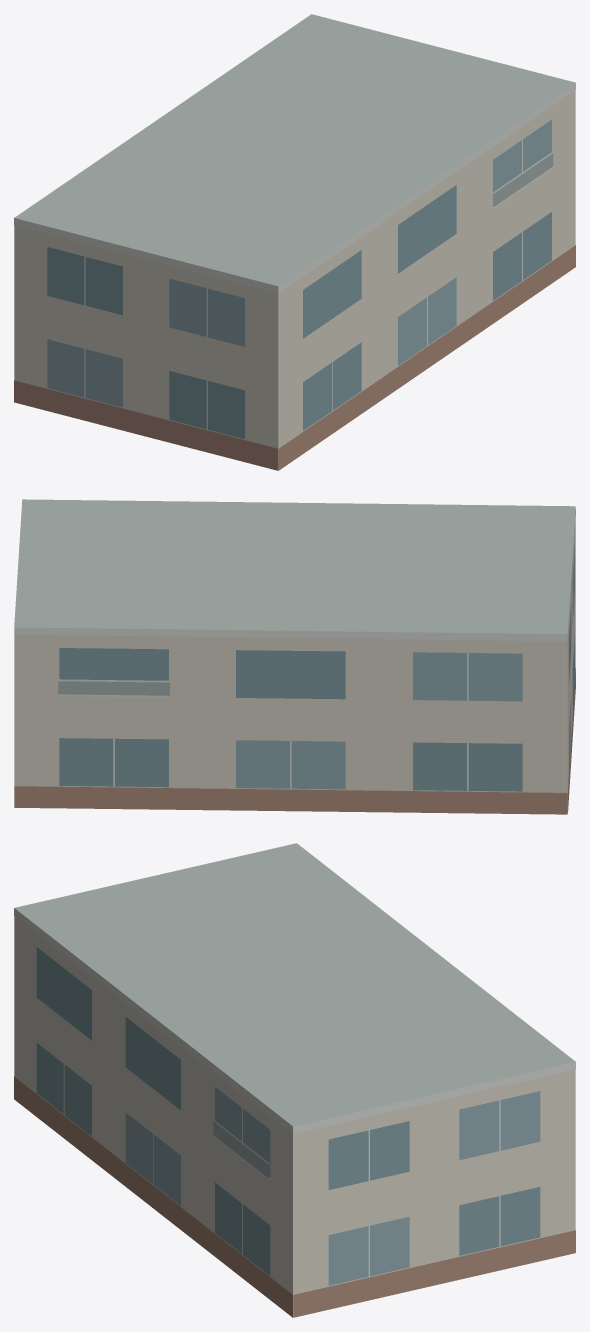
Rendered from survey-upis-32935294.glb.
3 renders of one model, top to bottom at view 1: azimuth 30°, elevation 25°; view 2: azimuth 150°, elevation 25°; view 3: azimuth 270°, elevation 25°, orthographic. The views are drawn at different scales.
Parts seen in each view (by area): view 1: survey-upis-32935294.tmp; view 2: survey-upis-32935294.tmp; view 3: survey-upis-32935294.tmp.
Boxes of the visible parts, x1,y1,x2,y2 form: survey-upis-32935294.tmp: (14,14,575,470); survey-upis-32935294.tmp: (14,499,575,814); survey-upis-32935294.tmp: (14,843,575,1317).
Size of the model in its own units: 19.39 by 6.1 by 16.24.
